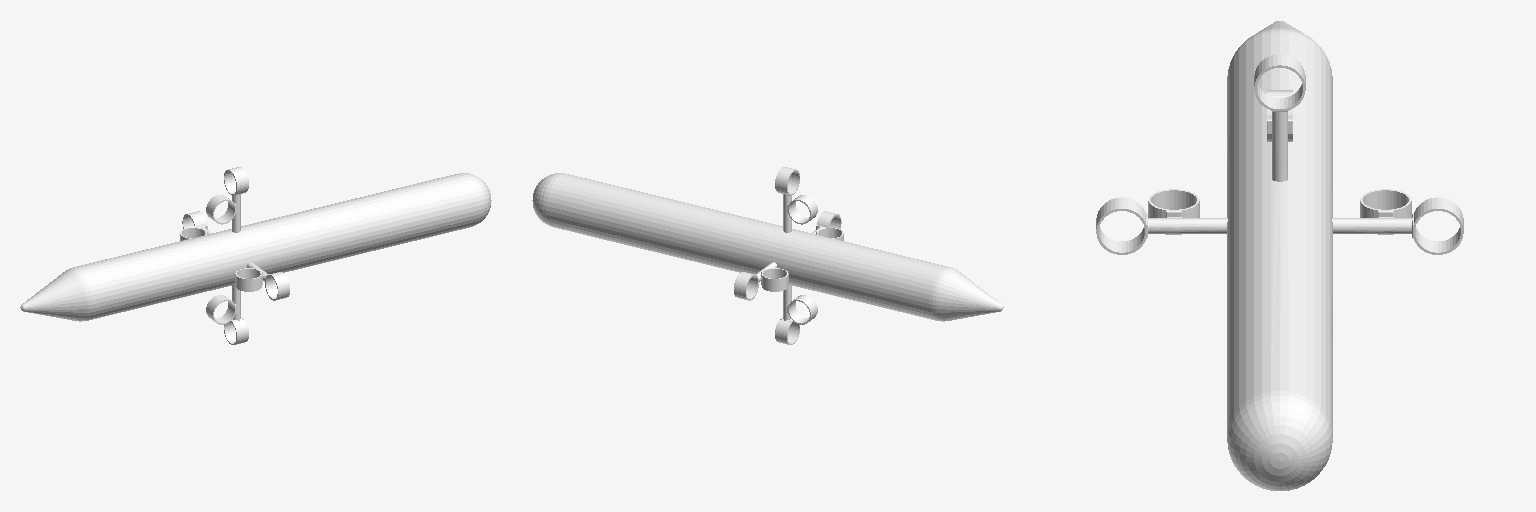
The robot description file, URDF, robot "Model_URDF.SLDASM":
<?xml version="1.0" encoding="utf-8"?>
<!-- This URDF was automatically created by SolidWorks to URDF Exporter! Originally created by [author] ([email redacted]) 
     Commit Version: 1.5.1-0-g916b5db  Build Version: 1.5.7152.31018
     For more information, please see http://wiki.ros.org/sw_urdf_exporter -->
<robot
  name="Model_URDF.SLDASM">
  <link
    name="base_link">
    <inertial>
      <origin
        xyz="-0.022195 1.3236E-09 3.3647E-08"
        rpy="0 0 -1.57079632679" />
        <!-- This needs to be rotated because Pybullet expects ENU and Lobster uses NED. Not 100% sure about this change-->
      <mass
        value="54.954" />
      <inertia
        ixx="0.31418"
        ixy="-2.7081E-08"
        ixz="-4.271E-07"
        iyy="14.391"
        iyz="-1.2655E-08"
        izz="14.391" />
    </inertial>
    <visual>
      <origin
        xyz="0 0 0"
        rpy="0 0 0" />
      <geometry>
        <mesh
          filename="./base_link.STL" />
      </geometry>
      <material
        name="">
        <color
          rgba="1 1 1 0.5" />
      </material>
    </visual>
    <collision>
      <origin
        xyz="0 0 0"
        rpy="0 0 0" />
      <geometry>
        <mesh
          filename="./base_link.STL" />
      </geometry>
    </collision>
  </link>
</robot>

--- What the picture shows (computed from the rendered views, not written in the file) ---
3 views of the same robot in one strip: view 1: azimuth 30°, elevation 25°; view 2: azimuth 150°, elevation 25°; view 3: azimuth 270°, elevation 25° (orthographic).
Robot: Model_URDF.SLDASM — 1 links, 0 joints (none); root link base_link; default pose: every joint at zero.
Links seen in each view (by area): view 1: base_link; view 2: base_link; view 3: base_link.
Link boxes in pixels (left/top/right/bottom): base_link: left=20, top=167, right=491, bottom=344; base_link: left=532, top=167, right=1003, bottom=344; base_link: left=1096, top=21, right=1463, bottom=490.
Bounding box of the posed robot: 1.95 × 0.6936 × 0.6936 m (x, y, z).
1 mesh visuals loaded from 1 distinct referenced files (1 binary STL).
